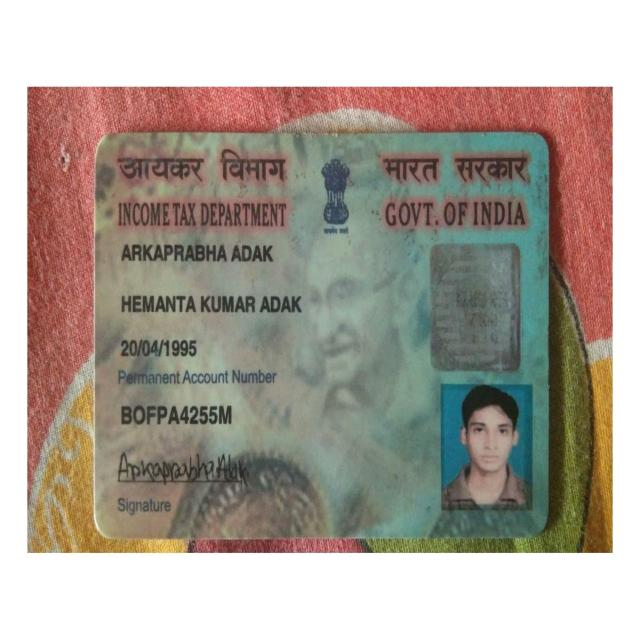pan_card: (97, 135, 543, 532)
